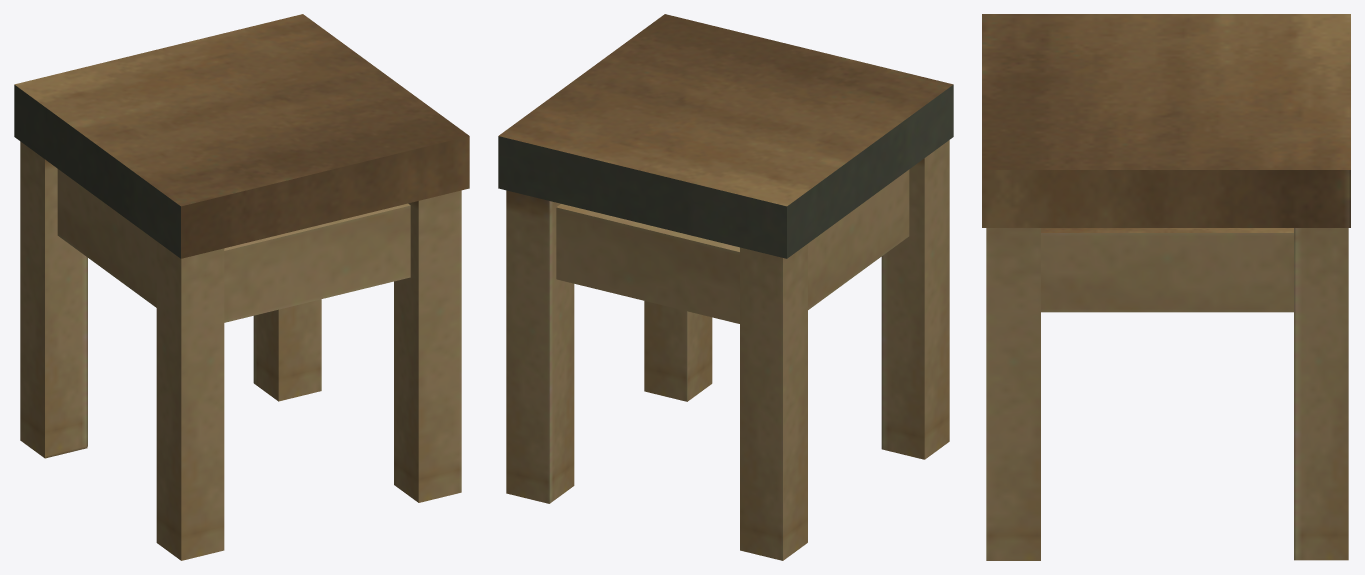
Rendered from chair.fbx.
3 views of the same model, side by side, from view 1: azimuth 30°, elevation 25°; view 2: azimuth 150°, elevation 25°; view 3: azimuth 270°, elevation 25° (orthographic). The views are drawn at different scales.
Parts seen in each view (by area): view 1: taburet; view 2: taburet; view 3: taburet.
Part boxes in pixels (box(x1,y1,x2,y2)): taburet: box(14, 14, 469, 560); taburet: box(498, 14, 953, 560); taburet: box(982, 14, 1350, 560).
Size of the model in its own units: 0.3565 by 0.3565 by 0.4205.
Materials: 1 (1 with a texture image).
